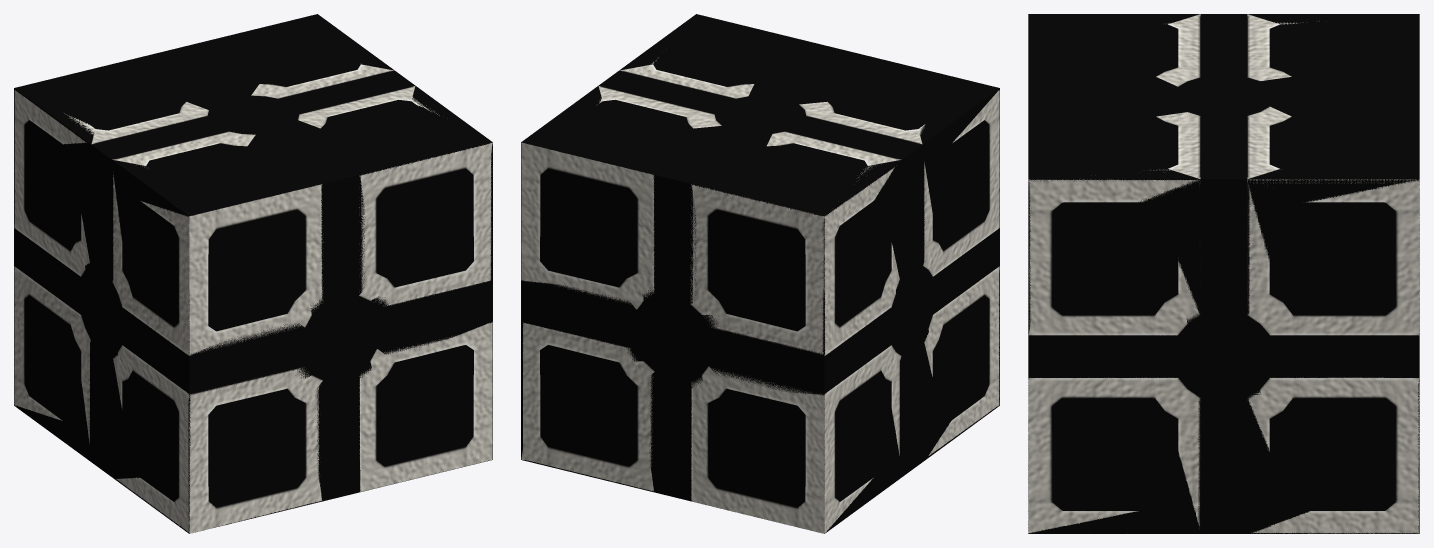
The model's file is 1_block.fbx.
3 renders of one model, left to right at view 1: azimuth 30°, elevation 25°; view 2: azimuth 150°, elevation 25°; view 3: azimuth 270°, elevation 25°, orthographic. The views are drawn at different scales.
Parts seen in each view (by area): view 1: 1_blockaura, 1_blockbase2; view 2: 1_blockaura, 1_blockbase2; view 3: 1_blockaura, 1_blockbase2.
Part boxes in pixels (x1,y1,x2,y2): 1_blockaura: [14, 14, 492, 533]; 1_blockbase2: [14, 64, 492, 533]; 1_blockaura: [521, 14, 999, 533]; 1_blockbase2: [521, 60, 999, 533]; 1_blockaura: [1028, 14, 1419, 533]; 1_blockbase2: [1028, 14, 1419, 533].
Bounding box in the file's own units: 8.51 × 8.51 × 8.51.
3 materials, 3 textured.
